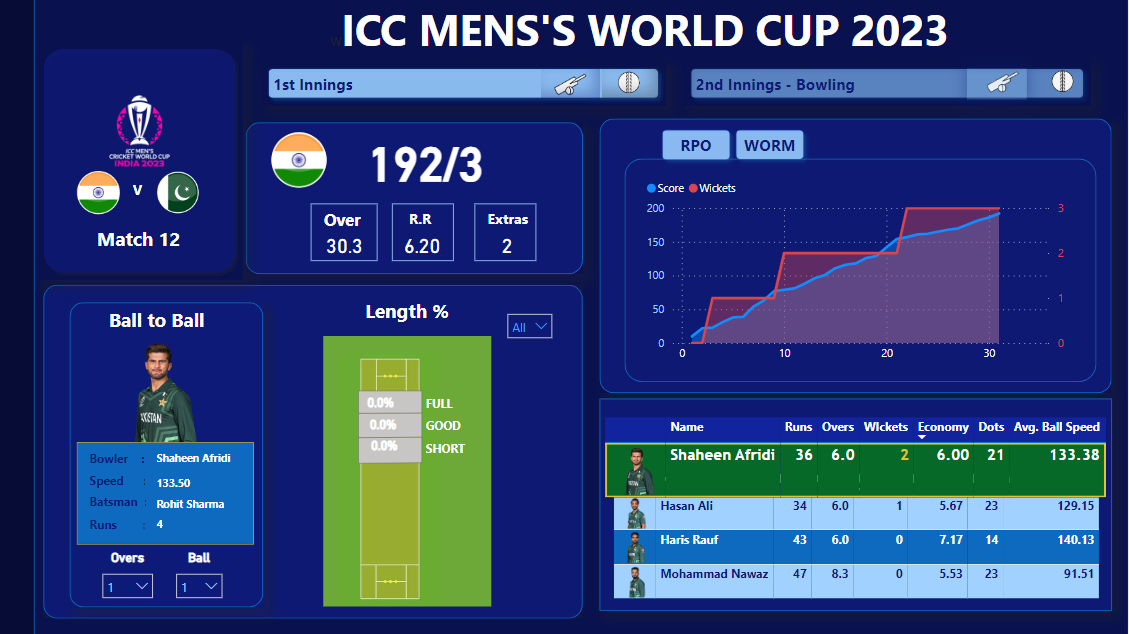

The dashboard page shown, as its layout file describes it:
{"tool":"powerbi","page":{"name":"pakvsind","canvas":[1280,720],"ordinal":2},"visuals":[{"type":"shape","box":[0,0,1280.8,720],"z":1000},{"type":"shape","box":[48.6,50.1,233.4,269.5],"z":1000,"group":"g3"},{"type":"shape","box":[57.9,325.6,607.8,376.3],"z":1500},{"type":"image","box":[41.7,72.9,249,163.8],"z":2000,"group":"g3"},{"type":"shape","box":[685,138.7,577.1,309.6],"z":2000},{"type":"image","box":[84.9,191.1,67.4,60.1],"z":3000,"group":"g3"},{"type":"shape","box":[86.8,345.2,218.3,343.7],"z":3000},{"type":"shape","box":[712.2,183.3,531.7,251.9],"z":4000},{"type":"image","box":[180,191.1,58.8,60.1],"z":4000,"group":"g3"},{"type":"textbox","box":[152.4,201.5,53.6,76.7],"z":5000,"group":"g3"},{"type":"shape","box":[96.2,503.1,199,114.9],"z":5000},{"type":"shape","box":[285.8,142.3,379.9,171.3],"z":6000},{"type":"textbox","box":[359.3,234,75,65],"z":7000},{"type":"group","id":"g1","title":"Group 2","box":[686.3,462,588.7,241.4],"z":9000},{"type":"slicer","fields":{"Values":["1st_inn_bat.Batsman_Runs"]},"box":[570.1,348,70.7,55.2],"z":10000},{"type":"group","id":"g2","title":"Group 1","box":[333.9,400.4,280,280],"z":11000},{"type":"card","fields":{"Values":["1st_inn_gen_stats.concat_score"]},"box":[389.4,126.1,191.9,113.5],"z":12000},{"type":"card","fields":{"Values":["1st_inn_gen_stats.bowler_ball_over"]},"box":[365,261,65.1,41],"z":13000},{"type":"image","box":[302.7,148.3,86.8,73.6],"z":14000},{"type":"textbox","box":[451.3,234,69.3,65],"z":15000},{"type":"card","fields":{"Values":["1st_inn_gen_stats.player_runrate"]},"box":[453.7,261,62.6,41],"z":16000},{"type":"shape","box":[686.3,462,577.5,239.4],"z":16000,"group":"g1"},{"type":"textbox","box":[544,234,69.6,65],"z":17000},{"type":"tableEx","fields":{"Values":["Min(indvspak_players.img_path)","1st_inn_bat.Batsman_Name","1st_inn_gen_stats.player_score_1","1st_inn_gen_stats.player_balls_1","1st_inn_gen_stats.player_runrate_1","1st_inn_gen_stats.howwicket_1","1st_inn_gen_stats.who_wicket_1","1st_inn_gen_stats.no_of_six_bat_1","1st_inn_gen_stats.no_of_4_bat_1"]},"box":[709.4,545,541.8,158.4],"z":17000,"group":"g1"},{"type":"card","fields":{"Values":["1st_inn_gen_stats.total_extra"]},"box":[546,261,68.2,41],"z":18000},{"type":"group","id":"g3","title":"Group 3","box":[41.7,50.1,249,323.2],"z":19000},{"type":"textbox","box":[95,253,134.9,120.3],"z":19001,"group":"g3"},{"type":"shape","box":[335.5,400.7,278.5,278.5],"z":19500,"group":"g2"},{"type":"shape","box":[0,0,48.1,720.1],"z":20000},{"type":"shapeMap","fields":{"Value":["1st_inn_gen_stats.field_percentage_1"],"Category":["1st_inn_bat.field"]},"box":[333.9,400.4,279.5,279.5],"z":20000,"group":"g2"},{"type":"tableEx","fields":{"Values":["Min(indvspak_players.img_path)","1st_inn_bat.Batsman_Name","1st_inn_gen_stats.player_score_1","1st_inn_gen_stats.player_balls_1","1st_inn_gen_stats.player_runrate_1","1st_inn_gen_stats.howwicket_1","1st_inn_gen_stats.who_wicket_1","1st_inn_gen_stats.no_of_six_bat_1","1st_inn_gen_stats.no_of_4_bat_1"]},"box":[686.3,484.7,588.7,88.2],"z":20000,"group":"g1"},{"type":"card","fields":{"Values":["1st_inn_gen_stats.long-on-card"]},"box":[467.5,591.2,77.5,56.1],"z":21000,"group":"g2"},{"type":"slicer","title":"Overs","fields":{"Values":["1st_inn_gen_stats.Over_No"]},"box":[114.3,624,77.2,59.1],"z":21000},{"type":"card","fields":{"Values":["1st_inn_gen_stats.mid-wicket-card"]},"box":[513.5,535.1,77.5,56.1],"z":22000,"group":"g2"},{"type":"slicer","title":"Ball","fields":{"Values":["1st_inn_gen_stats.Ball"]},"box":[197.7,624.3,72.1,58],"z":22000},{"type":"card","fields":{"Values":["1st_inn_gen_stats.square-card"]},"box":[512.4,483.5,77.5,56.1],"z":23000,"group":"g2"},{"type":"multiRowCard","fields":{"Values":["Min(1st_inn_bat.Batsman_Name)","1st_inn_gen_stats.Batsman_Style","1st_inn_gen_stats.Bowler_Name","1st_inn_gen_stats.player_score_1"]},"box":[180.9,506.8,125.4,114.6],"z":23000},{"type":"textbox","box":[109.7,511.4,73.6,44.6],"z":24000},{"type":"card","fields":{"Values":["1st_inn_gen_stats.long-off-card"]},"box":[401.3,591.2,77.5,56.1],"z":24000,"group":"g2"},{"type":"card","fields":{"Values":["1st_inn_gen_stats.cover-card"]},"box":[350.7,535.1,77.5,56.1],"z":25000,"group":"g2"},{"type":"textbox","box":[109.7,536.7,73.6,44.6],"z":25000},{"type":"card","fields":{"Values":["1st_inn_gen_stats.point-card"]},"box":[350.7,483.5,77.5,56.1],"z":26000,"group":"g2"},{"type":"textbox","box":[109.7,563.2,73.6,44.6],"z":26000},{"type":"card","fields":{"Values":["1st_inn_gen_stats.third-man-card"]},"box":[406.9,427.3,77.5,56.1],"z":27000,"group":"g2"},{"type":"textbox","box":[109.7,586.1,73.6,44.6],"z":27000},{"type":"actionButton","box":[747.2,142,93.7,51],"z":28000},{"type":"shape","box":[426.2,495.2,93.3,93.3],"z":28000,"group":"g2"},{"type":"actionButton","box":[829.7,142.7,93.7,50.4],"z":29000},{"type":"card","fields":{"Values":["1st_inn_gen_stats.fine-leg-card"]},"box":[467.5,422.9,77.5,64],"z":29000,"group":"g2"},{"type":"tableEx","fields":{"Values":["Min(indvspak_players.img_path)"]},"box":[118.2,360.6,141.1,156.8],"z":30000},{"type":"shape","box":[467.3,522,14,37.2],"z":30000,"group":"g2"},{"type":"textbox","box":[375.4,0,742.4,77],"z":31000},{"type":"actionButton","box":[302.6,72.8,456.6,50.4],"z":32000},{"type":"actionButton","box":[778.8,72.8,459.4,50.4],"z":33000},{"type":"textbox","box":[126.6,344.9,130.3,38.6],"z":34000},{"type":"textbox","box":[404,344.9,185.7,48.2],"z":35000},{"type":"image","box":[617.7,60,67.2,76],"z":36000},{"type":"image","box":[696.2,70,46,54],"z":37000},{"type":"actionButton","box":[618.7,82,67.2,35],"z":38000},{"type":"actionButton","box":[687.3,80.8,64,34],"z":39000},{"type":"stackedAreaChart","fields":{"Category":["1st_inn_gen_stats.Over_No"]},"box":[730.6,210.1,517.7,223.9],"z":40000},{"type":"areaChart","fields":{"Category":["1st_inn_gen_stats.Ball_Number"],"Y":["Max(1st_inn_gen_stats.Score)"],"Y2":["1st_inn_gen_stats.wickets1"]},"box":[736.9,196.6,481.2,224.3],"z":41000},{"type":"image","box":[1106.3,58.4,67.2,76],"z":42000},{"type":"image","box":[1184.7,68.4,46,54],"z":43000},{"type":"actionButton","box":[1098.6,82.3,67.2,35],"z":44000},{"type":"actionButton","box":[1167.2,81.2,64,34],"z":45000}]}

Visuals, with their boxes in screenshot pixels (x1, y1, x2, y2), scaled from the page's 1280x720 canvas onto the 1129x634 screenshot:
shape: box=[0, 0, 1128, 633]
shape: box=[43, 44, 249, 281]
shape: box=[51, 287, 587, 618]
image: box=[37, 64, 256, 208]
shape: box=[604, 122, 1113, 395]
image: box=[75, 168, 134, 221]
shape: box=[77, 304, 269, 607]
shape: box=[628, 161, 1097, 383]
image: box=[159, 168, 211, 221]
textbox: box=[134, 177, 182, 245]
shape: box=[85, 443, 260, 544]
shape: box=[252, 125, 587, 276]
textbox: box=[317, 206, 383, 263]
"Group 2" group: box=[605, 407, 1125, 619]
slicer - 1st_inn_bat.Batsman_Runs: box=[503, 306, 565, 355]
"Group 1" group: box=[295, 353, 541, 599]
card - 1st_inn_gen_stats.concat_score: box=[343, 111, 513, 211]
card - 1st_inn_gen_stats.bowler_ball_over: box=[322, 230, 379, 266]
image: box=[267, 131, 344, 195]
textbox: box=[398, 206, 459, 263]
card - 1st_inn_gen_stats.player_runrate: box=[400, 230, 455, 266]
shape: box=[605, 407, 1115, 618]
textbox: box=[480, 206, 541, 263]
tableEx - Min(indvspak_players.img_path) x 1st_inn_bat.Batsman_Name: box=[626, 480, 1104, 619]
card - 1st_inn_gen_stats.total_extra: box=[482, 230, 542, 266]
"Group 3" group: box=[37, 44, 256, 329]
textbox: box=[84, 223, 203, 329]
shape: box=[296, 353, 542, 598]
shape: box=[0, 0, 42, 633]
shapeMap - 1st_inn_gen_stats.field_percentage_1 x 1st_inn_bat.field: box=[295, 353, 541, 599]
tableEx - Min(indvspak_players.img_path) x 1st_inn_bat.Batsman_Name: box=[605, 427, 1125, 504]
card - 1st_inn_gen_stats.long-on-card: box=[412, 521, 481, 570]
"Overs" slicer: box=[101, 549, 169, 602]
card - 1st_inn_gen_stats.mid-wicket-card: box=[453, 471, 521, 521]
"Ball" slicer: box=[174, 550, 238, 601]
card - 1st_inn_gen_stats.square-card: box=[452, 426, 520, 475]
multiRowCard - Min(1st_inn_bat.Batsman_Name) x 1st_inn_gen_stats.Batsman_Style: box=[160, 446, 270, 547]
textbox: box=[97, 450, 162, 490]
card - 1st_inn_gen_stats.long-off-card: box=[354, 521, 422, 570]
card - 1st_inn_gen_stats.cover-card: box=[309, 471, 378, 521]
textbox: box=[97, 473, 162, 512]
card - 1st_inn_gen_stats.point-card: box=[309, 426, 378, 475]
textbox: box=[97, 496, 162, 535]
card - 1st_inn_gen_stats.third-man-card: box=[359, 376, 427, 426]
textbox: box=[97, 516, 162, 555]
actionButton: box=[659, 125, 742, 170]
shape: box=[376, 436, 458, 518]
actionButton: box=[732, 126, 814, 170]
card - 1st_inn_gen_stats.fine-leg-card: box=[412, 372, 481, 429]
tableEx - Min(indvspak_players.img_path): box=[104, 318, 229, 456]
shape: box=[412, 460, 425, 492]
textbox: box=[331, 0, 986, 68]
actionButton: box=[267, 64, 670, 108]
actionButton: box=[687, 64, 1092, 108]
textbox: box=[112, 304, 227, 338]
textbox: box=[356, 304, 520, 346]
image: box=[545, 53, 604, 120]
image: box=[614, 62, 655, 109]
actionButton: box=[546, 72, 605, 103]
actionButton: box=[606, 71, 663, 101]
stackedAreaChart - 1st_inn_gen_stats.Over_No: box=[644, 185, 1101, 382]
areaChart - 1st_inn_gen_stats.Ball_Number x Max(1st_inn_gen_stats.Score): box=[650, 173, 1074, 371]
image: box=[976, 51, 1035, 118]
image: box=[1045, 60, 1086, 108]
actionButton: box=[969, 72, 1028, 103]
actionButton: box=[1030, 72, 1086, 101]
